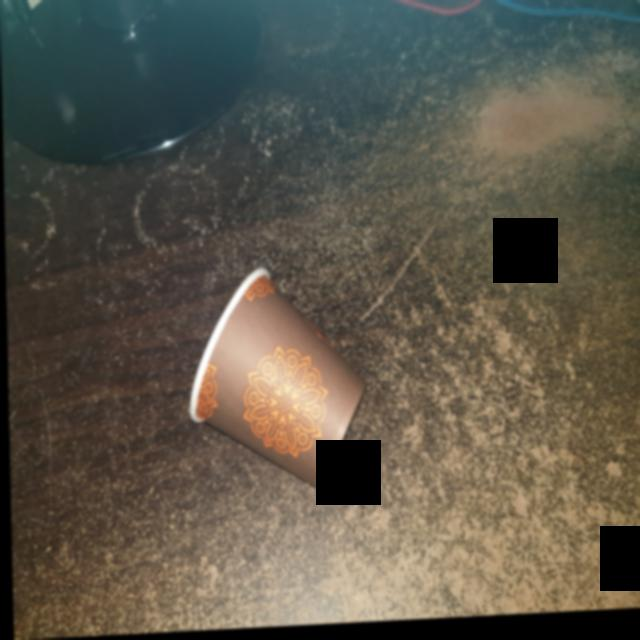cups: (182, 263, 375, 508)
